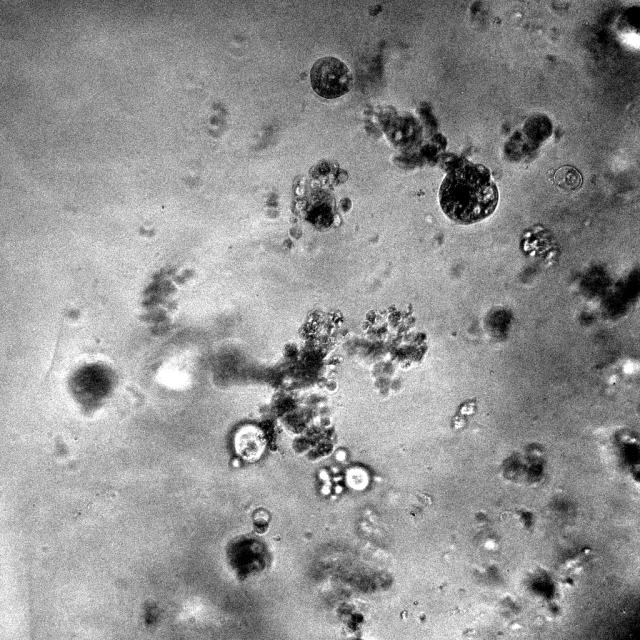organoid: (210, 309, 343, 464), (363, 102, 499, 224), (306, 540, 394, 638), (343, 304, 428, 395), (282, 159, 352, 250), (574, 262, 639, 326), (141, 266, 194, 334), (226, 507, 271, 579), (66, 357, 118, 415), (315, 447, 373, 499), (504, 112, 552, 161), (501, 443, 545, 483), (310, 56, 351, 98), (519, 224, 558, 265), (484, 306, 512, 339), (451, 398, 476, 430), (553, 165, 582, 192)
